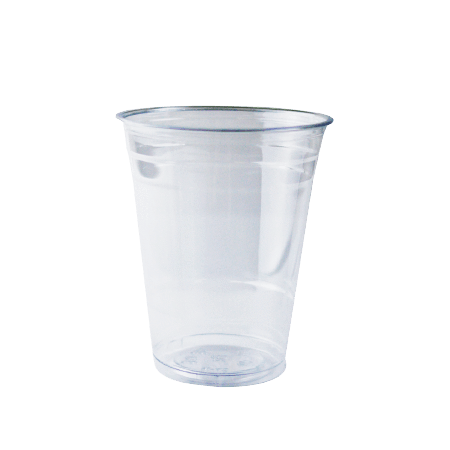plastic_glass: (101, 18, 405, 418)
